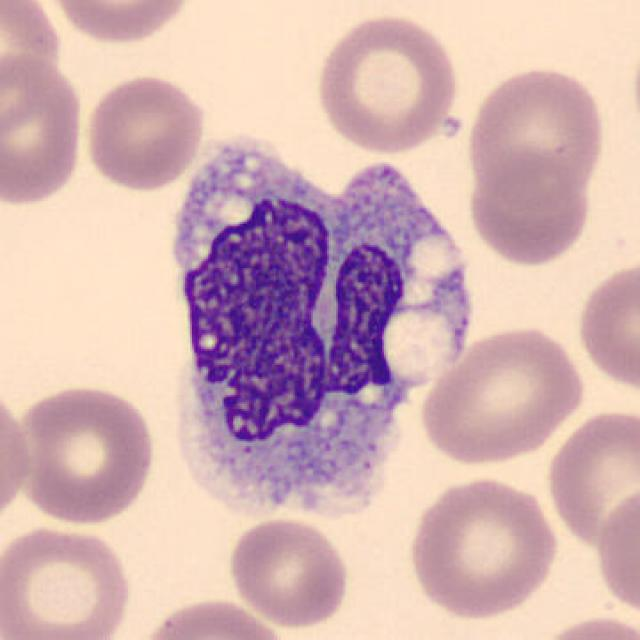Monocyte: (148, 129, 484, 536)
RBC: (416, 321, 588, 467), (404, 472, 564, 622), (311, 9, 462, 155), (12, 379, 160, 527), (462, 61, 610, 202), (0, 522, 137, 640), (80, 71, 208, 192), (464, 153, 597, 268), (224, 515, 354, 631), (540, 404, 638, 550), (0, 48, 87, 210), (572, 256, 638, 395), (43, 0, 197, 48), (134, 594, 292, 640), (592, 480, 638, 624), (0, 0, 64, 100), (0, 378, 36, 534), (531, 612, 640, 640)
